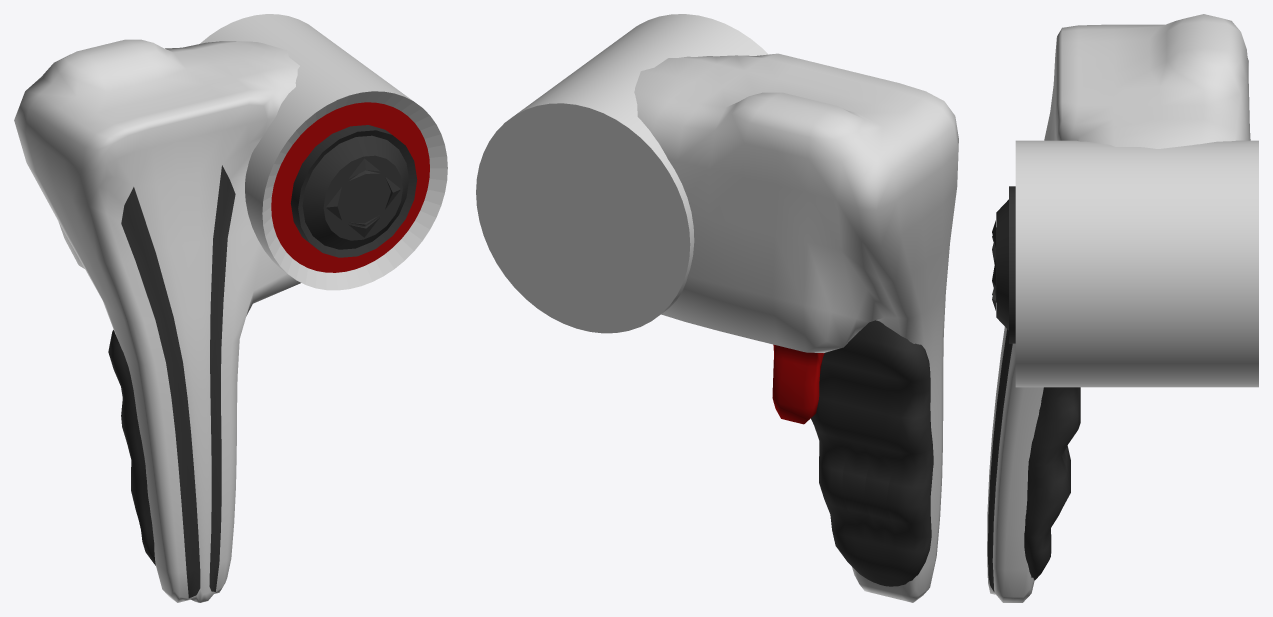
The model's file is leftjoystick.fbx.
3 renders of one model, left to right at view 1: azimuth 30°, elevation 25°; view 2: azimuth 150°, elevation 25°; view 3: azimuth 270°, elevation 25°, orthographic. The views are drawn at different scales.
Parts seen in each view (by area): view 1: polySurface8, pCylinder7, pPyramid29, polySurface7; view 2: polySurface8, pCylinder7, polySurface7, pCube6; view 3: pCylinder7, polySurface8, polySurface7, pPyramid29.
Part boxes in pixels (left/top/right/bottom): polySurface8: left=14, top=39, right=300, bottom=602; pCylinder7: left=200, top=14, right=447, bottom=290; pPyramid29: left=290, top=125, right=417, bottom=257; polySurface7: left=108, top=330, right=155, bottom=565; polySurface8: left=634, top=53, right=958, bottom=602; pCylinder7: left=476, top=14, right=768, bottom=333; polySurface7: left=811, top=320, right=933, bottom=586; pCube6: left=772, top=344, right=824, bottom=424; pCylinder7: left=1015, top=140, right=1258, bottom=387; polySurface8: left=987, top=14, right=1250, bottom=602; polySurface7: left=1024, top=387, right=1080, bottom=580; pPyramid29: left=992, top=186, right=1015, bottom=343.
Size of the model in its own units: 1.07 by 1.45 by 0.6422.
